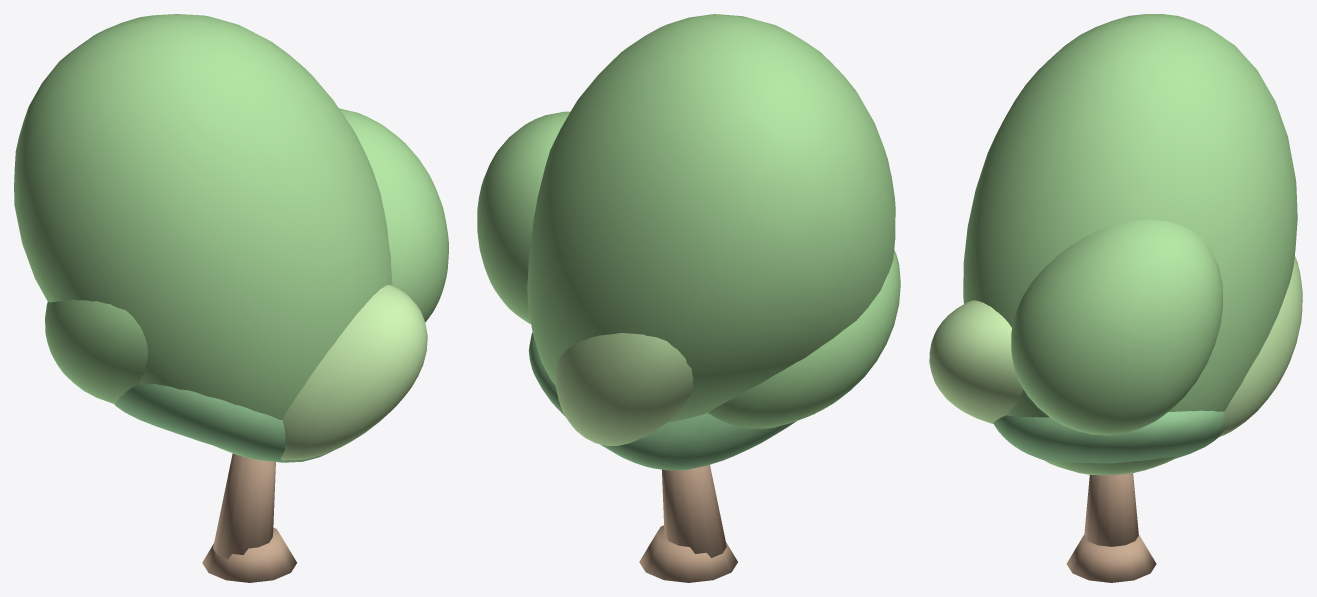
The model's file is tree_round.glb.
3 views of the same model, side by side, from view 1: azimuth 30°, elevation 25°; view 2: azimuth 150°, elevation 25°; view 3: azimuth 270°, elevation 25° (orthographic). The views are drawn at different scales.
Visible parts, largest first — view 1: tree_round; view 2: tree_round; view 3: tree_round.
Part boxes in pixels (box(x1,y1,x2,y2)): tree_round: box(14, 14, 448, 582); tree_round: box(477, 14, 900, 582); tree_round: box(929, 14, 1302, 582).
Size of the model in its own units: 5.08 by 6.87 by 4.55.
